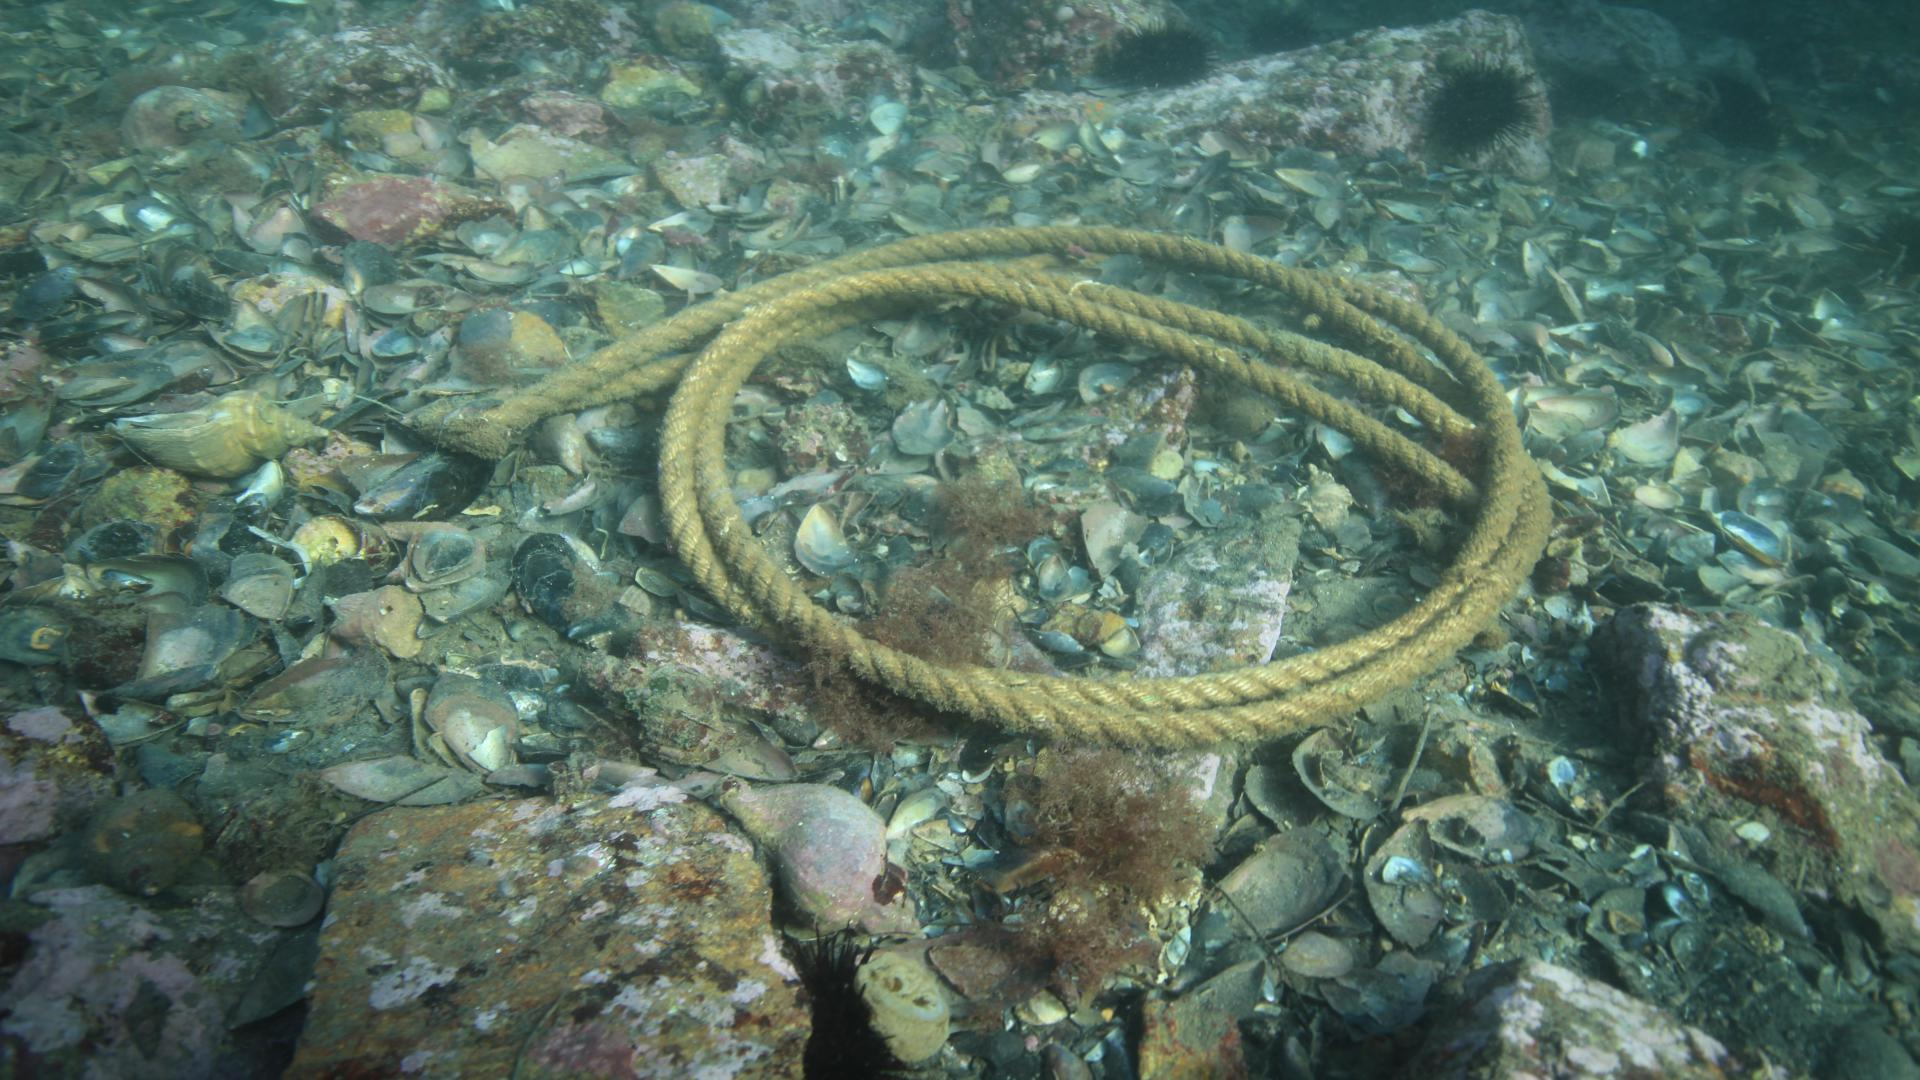bundle of ropes: (491, 218, 1567, 756)
